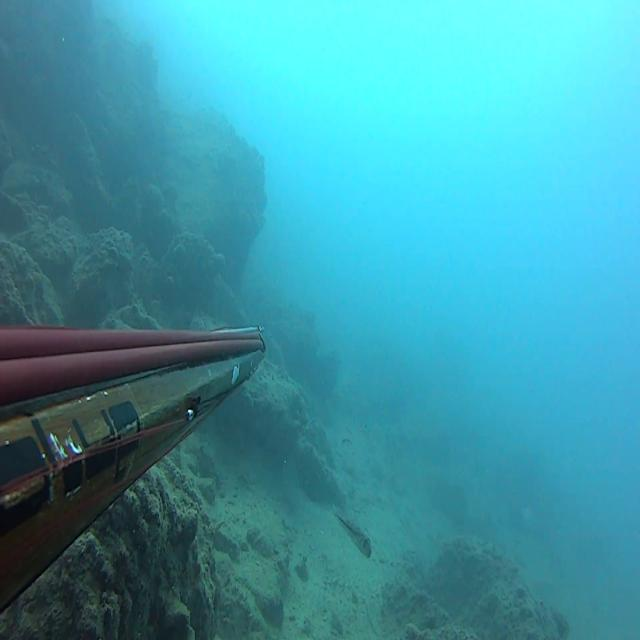Balon Baligi: (331, 504, 372, 558)
